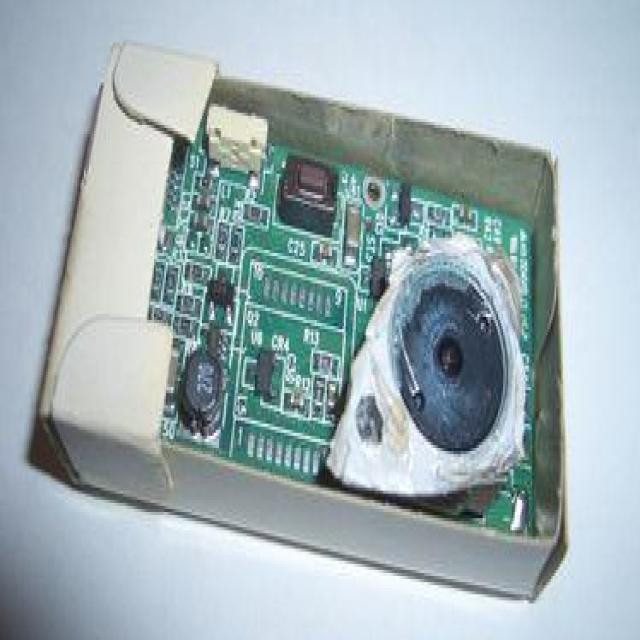hidden camera: (413, 287, 498, 432)
